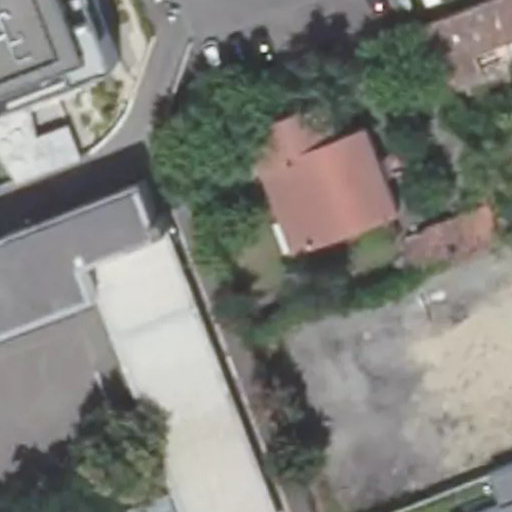pool: (225, 224, 284, 260)
